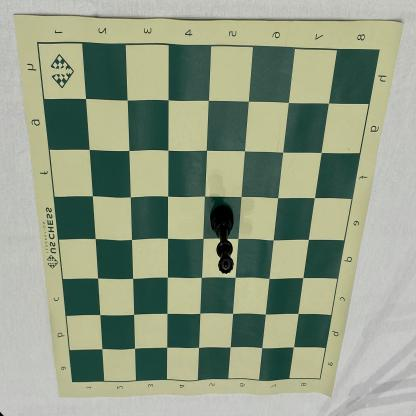black-queen: (210, 204, 234, 274)
